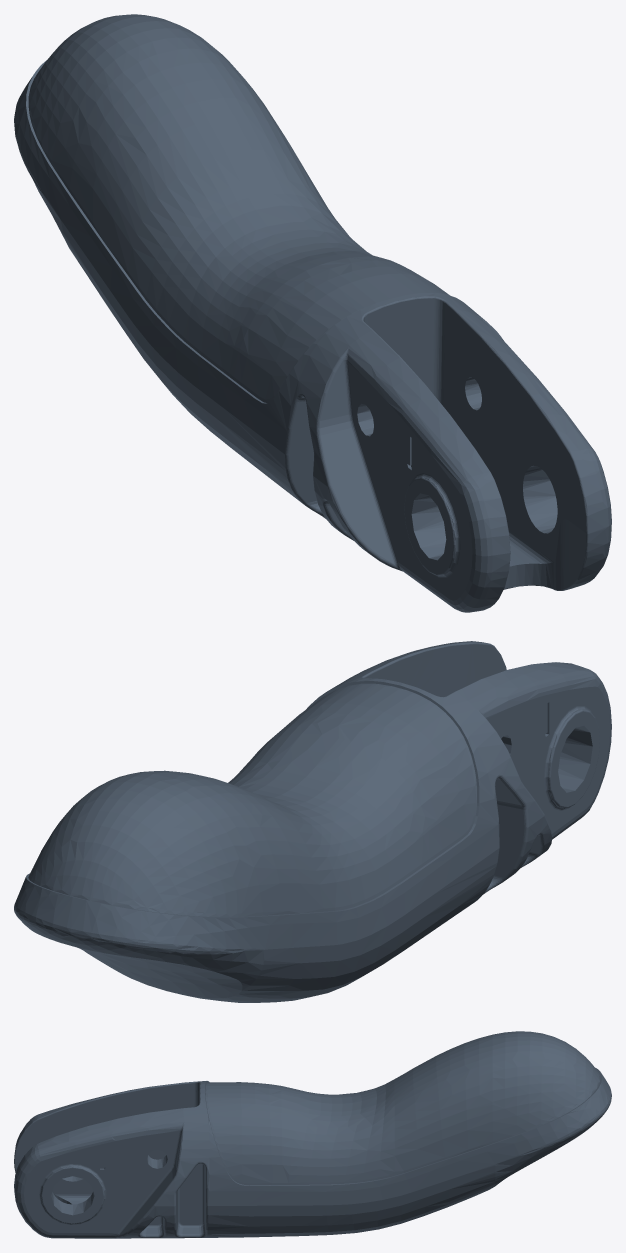
File: L_middle_dist.dae
The picture shows the model from 3 angles, top to bottom: view 1: azimuth 30°, elevation 25°; view 2: azimuth 150°, elevation 25°; view 3: azimuth 270°, elevation 25°; orthographic projection. The views are drawn at different scales.
Visible parts, largest first — view 1: L_middle_dist; view 2: L_middle_dist; view 3: L_middle_dist.
Part boxes in pixels (box(x1,y1,x2,y2)): L_middle_dist: box(14, 14, 611, 612); L_middle_dist: box(14, 641, 611, 1002); L_middle_dist: box(14, 1031, 611, 1238).
Bounding box in the file's own units: 0.0148 × 0.0566 × 0.0197.
